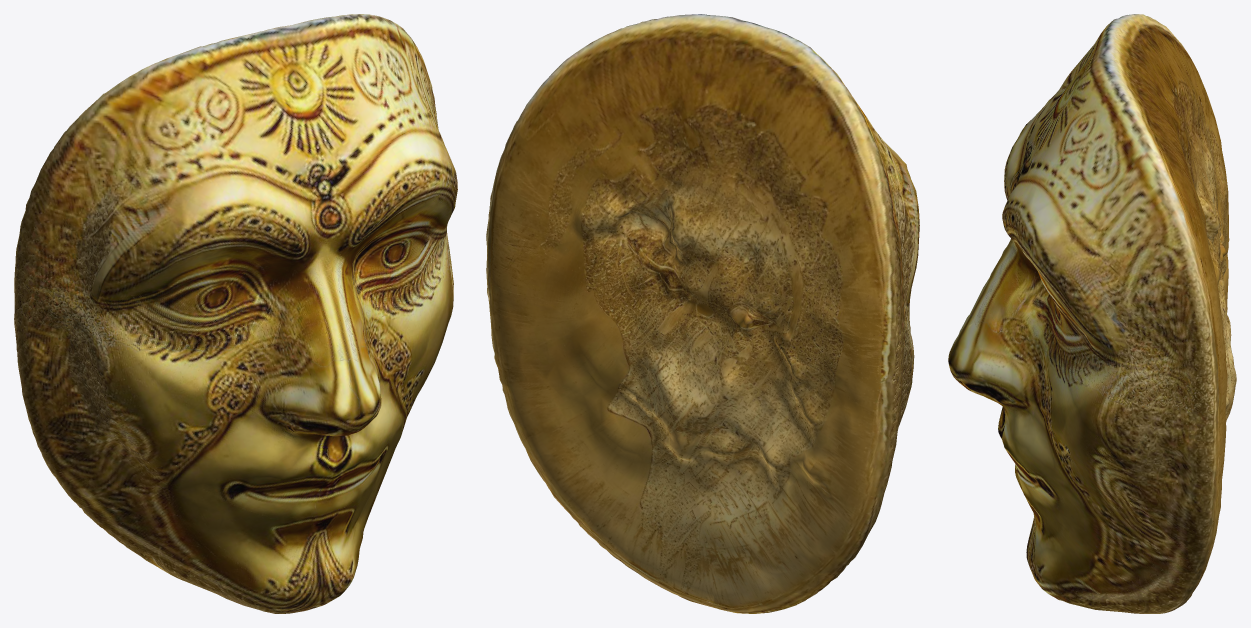
The model's file is mask-a.glb.
The picture shows the model from 3 angles, left to right: view 1: azimuth 30°, elevation 25°; view 2: azimuth 150°, elevation 25°; view 3: azimuth 270°, elevation 25°; orthographic projection. The views are drawn at different scales.
Parts seen in each view (by area): view 1: Mask-a; view 2: Mask-a; view 3: Mask-a.
Part boxes in pixels (<box>): Mask-a: <box>14,14,457,613</box>; Mask-a: <box>486,14,919,613</box>; Mask-a: <box>948,14,1236,613</box>.
Size of the model in its own units: 0.2453 by 0.3233 by 0.1519.
1 material, 1 textured.
